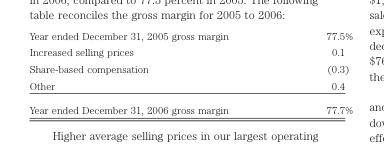table: (28, 29, 352, 115)
table column: (28, 29, 276, 115), (276, 29, 352, 115)
table row: (28, 76, 352, 97), (28, 97, 352, 115), (28, 43, 352, 60), (28, 60, 352, 76), (28, 29, 352, 43)
